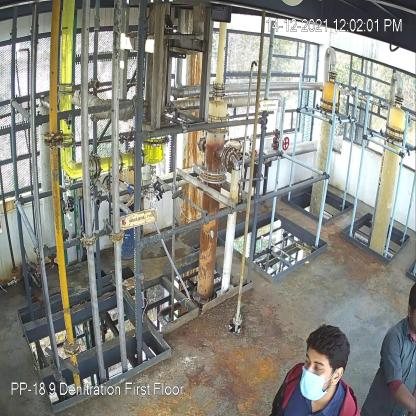no_goggles: (303, 354, 327, 372)
